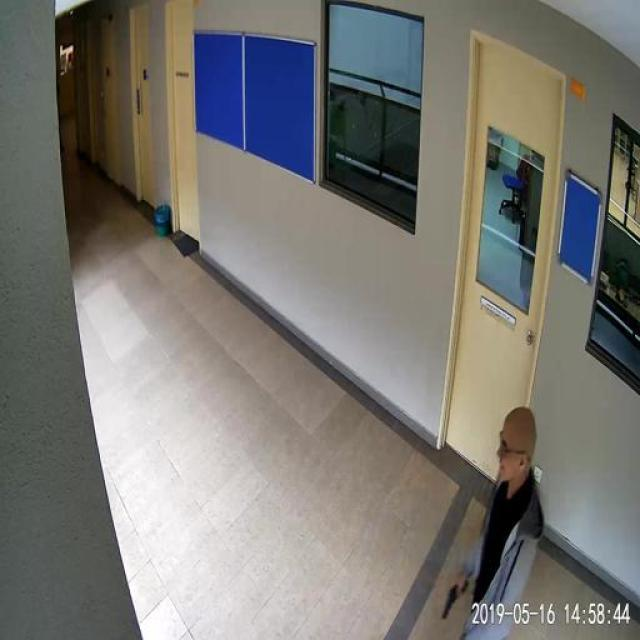Gun: (433, 570, 477, 626)
